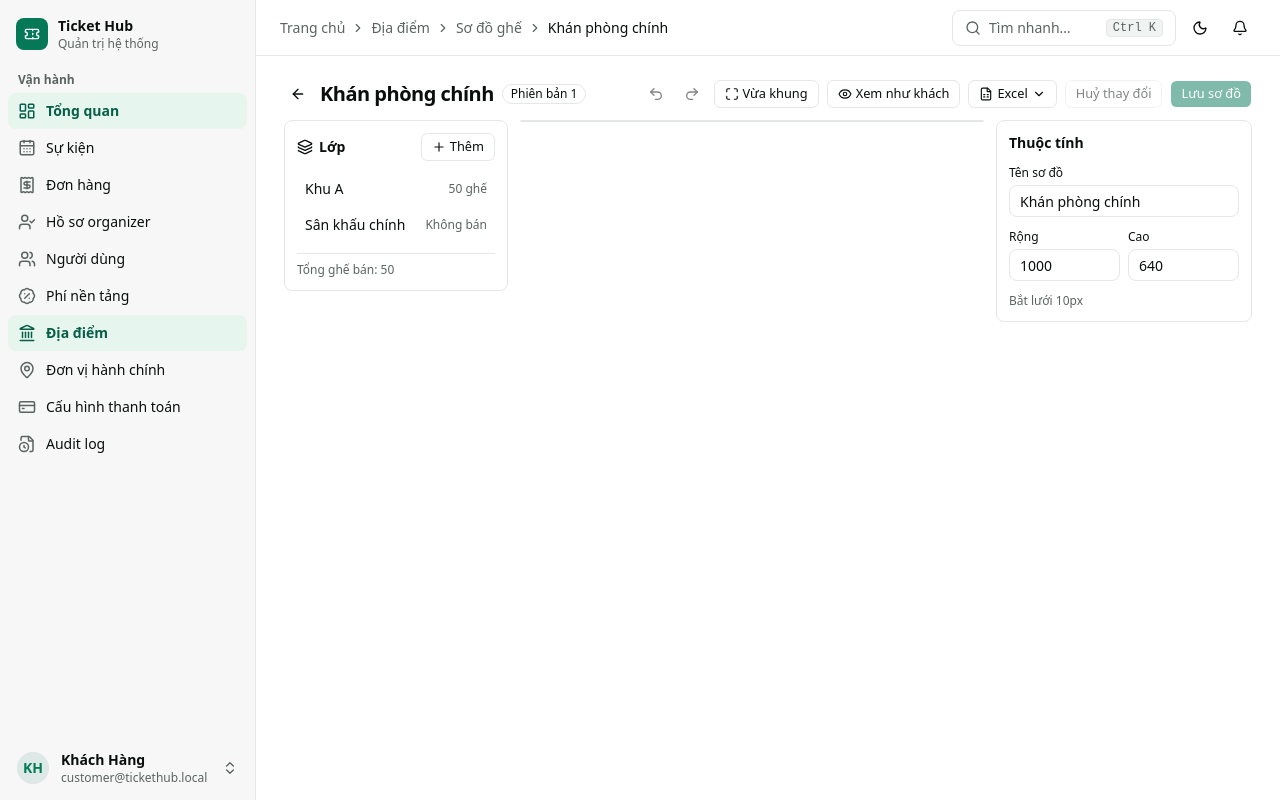
Test: Editor sơ đồ ghế › đổi số hàng làm đổi tổng ghế; thêm khu mới lấy mã K1; xoá khu cần bấm hai lần
Click the button "Khu A 50 ghế".
click(396, 189)  # box [297,173,495,205]
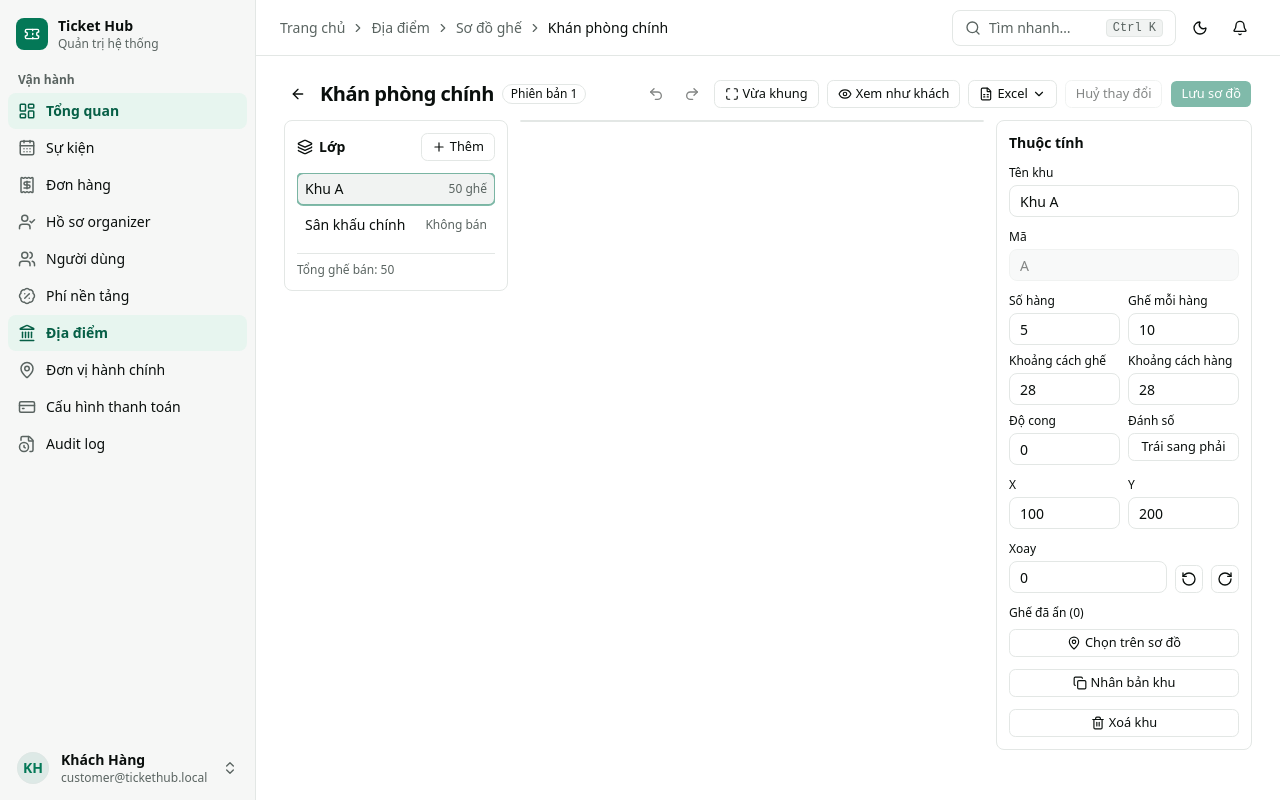
Replace the text in the field named "Số hàng" with "8" at (1064, 329), box [1009,313,1120,345]
Then press Enter
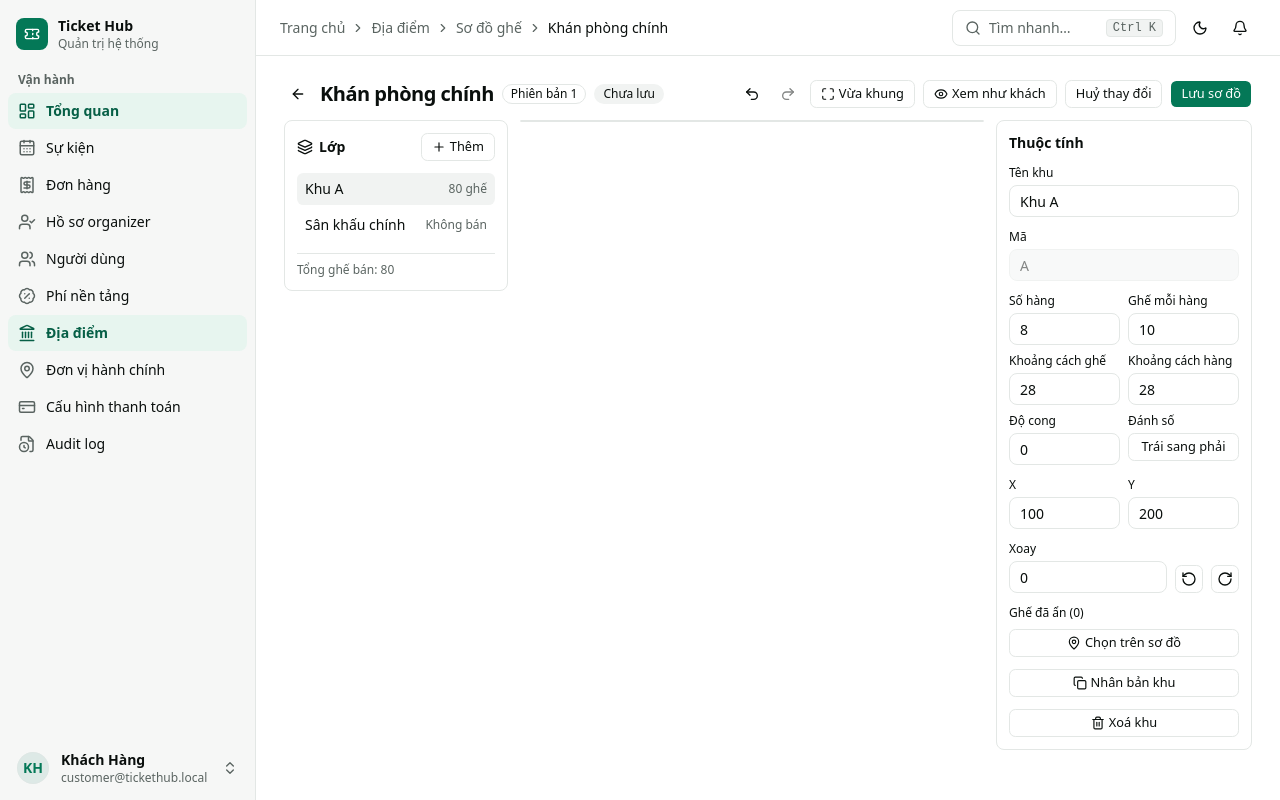
expect the text "Tổng ghế bán: 80" is shown: met, box [297,253,495,278]
Click the button "Thêm".
click(458, 147)  # box [421,133,495,161]
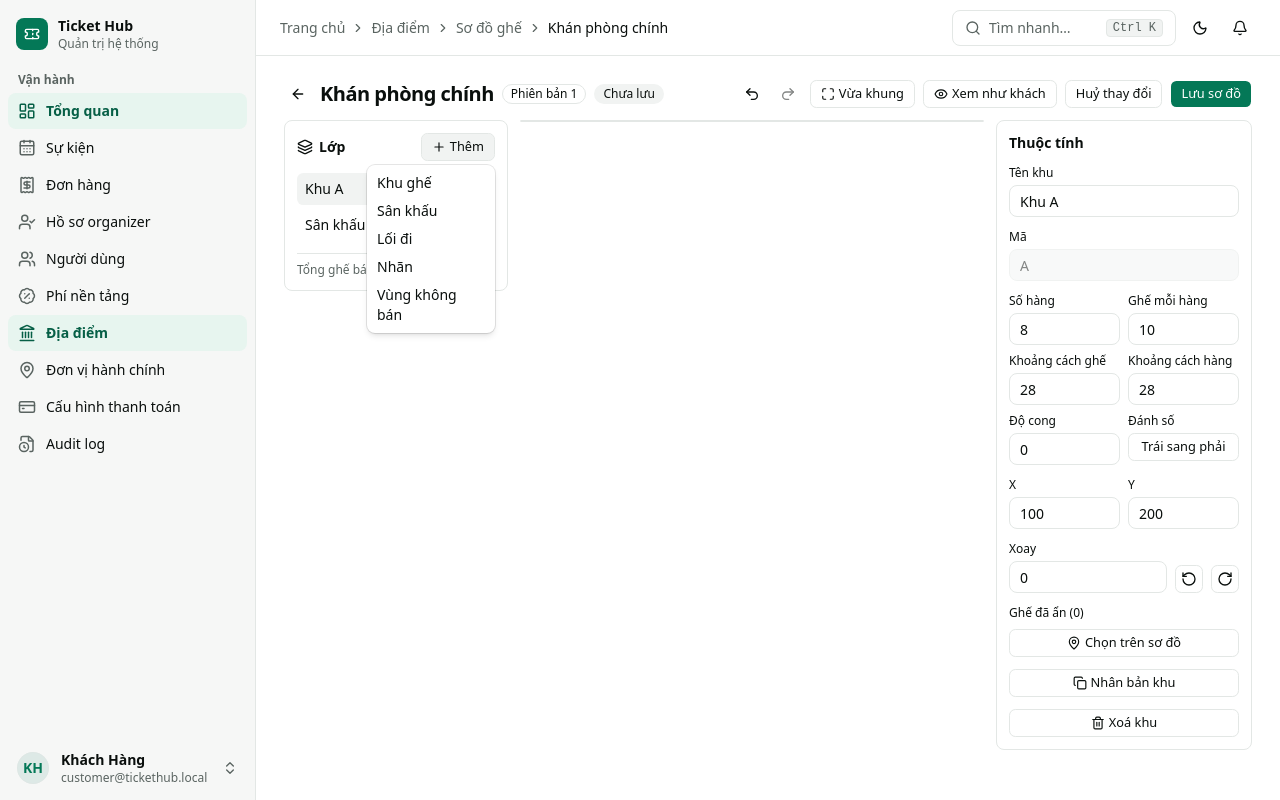
Click the menu item "Khu ghế".
click(404, 182)  # box [377,173,432,192]
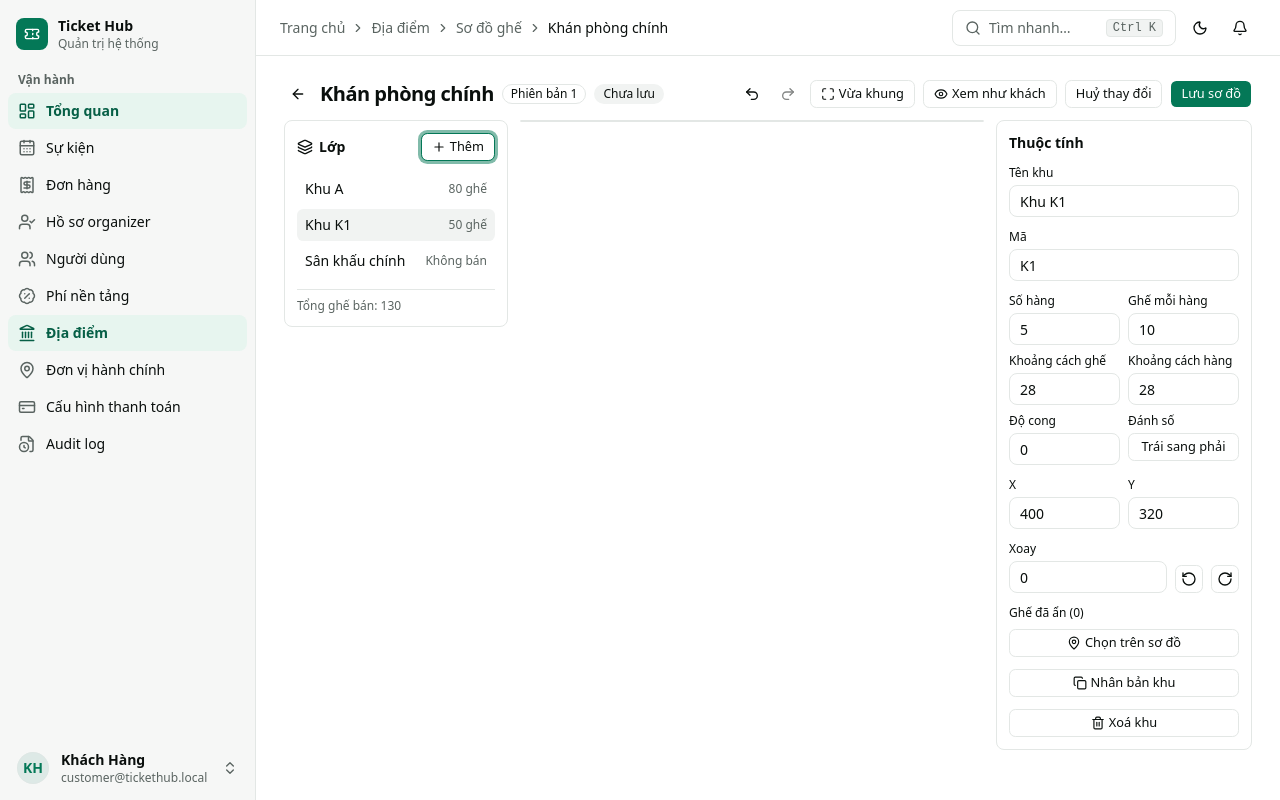
expect the button "Khu K1 50 ghế" is shown: met, box [297,209,495,241]
expect the text "Tổng ghế bán: 130" is shown: met, box [297,289,495,314]
Click the button "Xoá khu".
click(1124, 723)  # box [1009,709,1239,737]
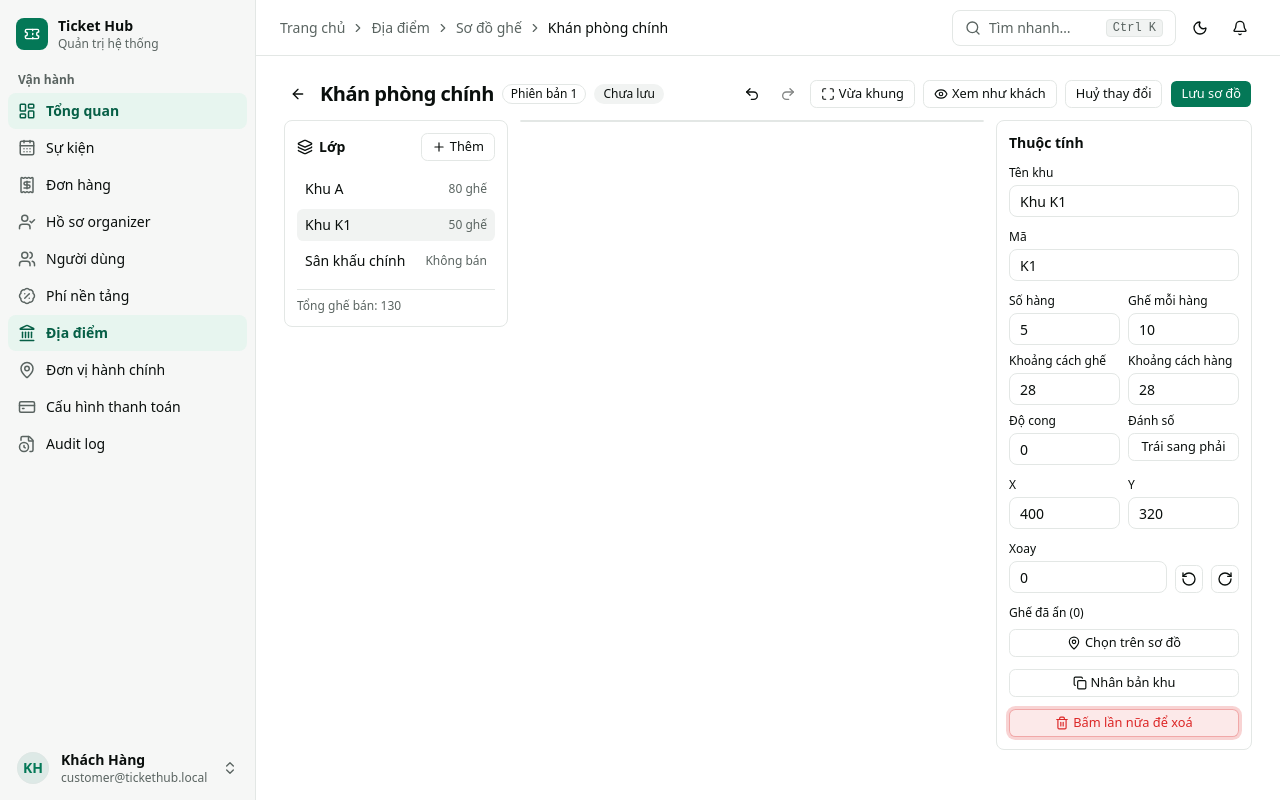
expect the text "Tổng ghế bán: 130" is shown: met, box [297,289,495,314]
Click the button "Bấm lần nữa để xoá".
click(1124, 723)  # box [1009,709,1239,737]
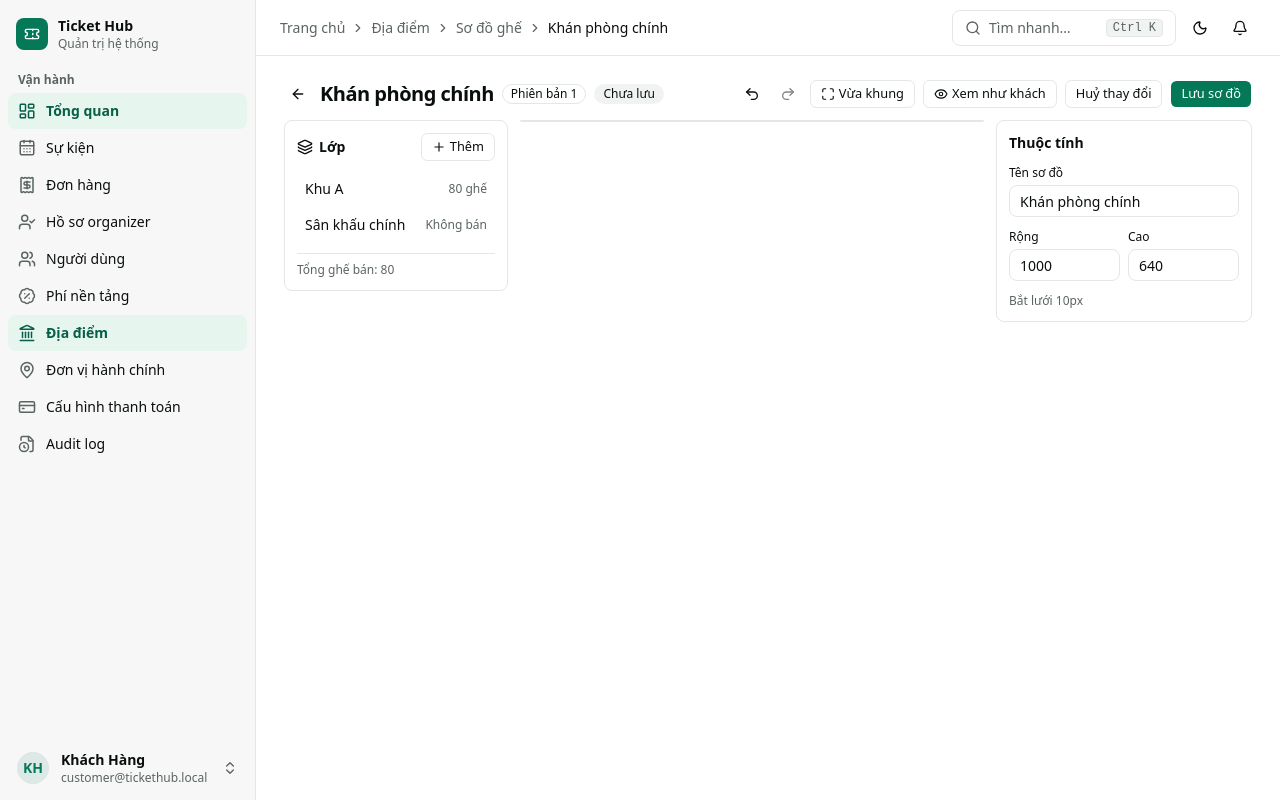
expect the text "Tổng ghế bán: 80" is shown: met, box [297,253,495,278]
